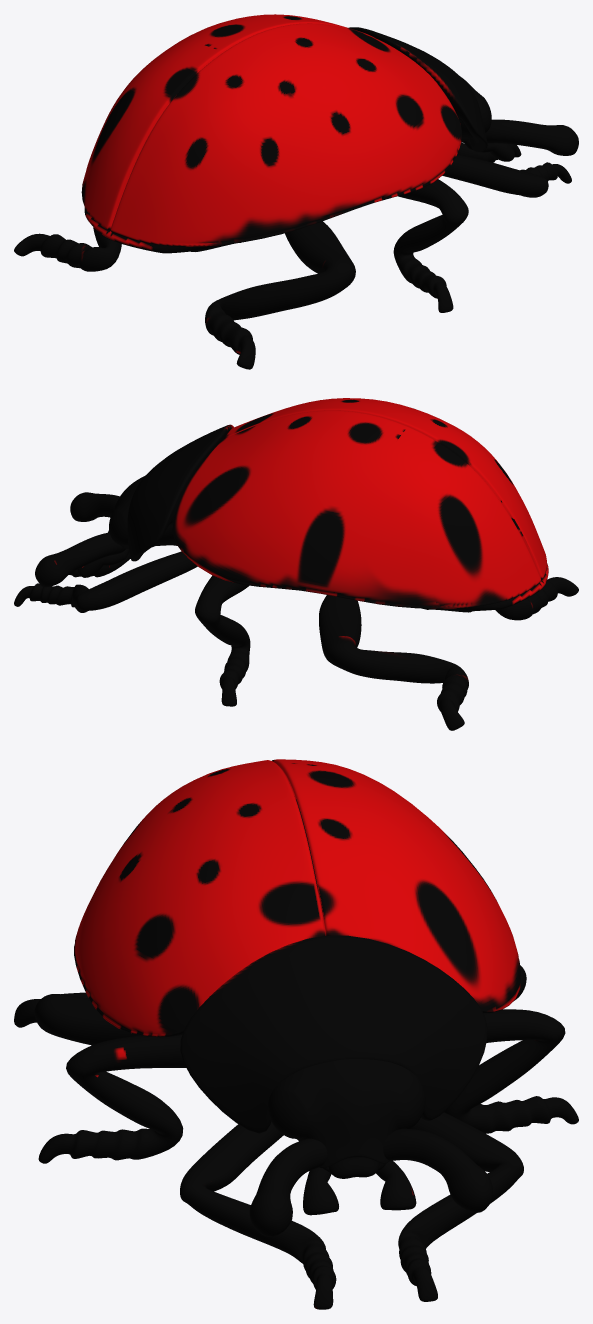
File: mariquita.fbx
3 renders of one model, top to bottom at view 1: azimuth 30°, elevation 25°; view 2: azimuth 150°, elevation 25°; view 3: azimuth 270°, elevation 25°, orthographic. The views are drawn at different scales.
Visible parts, largest first — view 1: 19913_Ladybug_V1; view 2: 19913_Ladybug_V1; view 3: 19913_Ladybug_V1.
Boxes of the visible parts, bbox=[...] form: 19913_Ladybug_V1: bbox=[14, 14, 578, 369]; 19913_Ladybug_V1: bbox=[14, 398, 578, 730]; 19913_Ladybug_V1: bbox=[14, 759, 578, 1309].
Bounding box in the file's own units: 256 × 117 × 188.
1 material, 1 textured.
